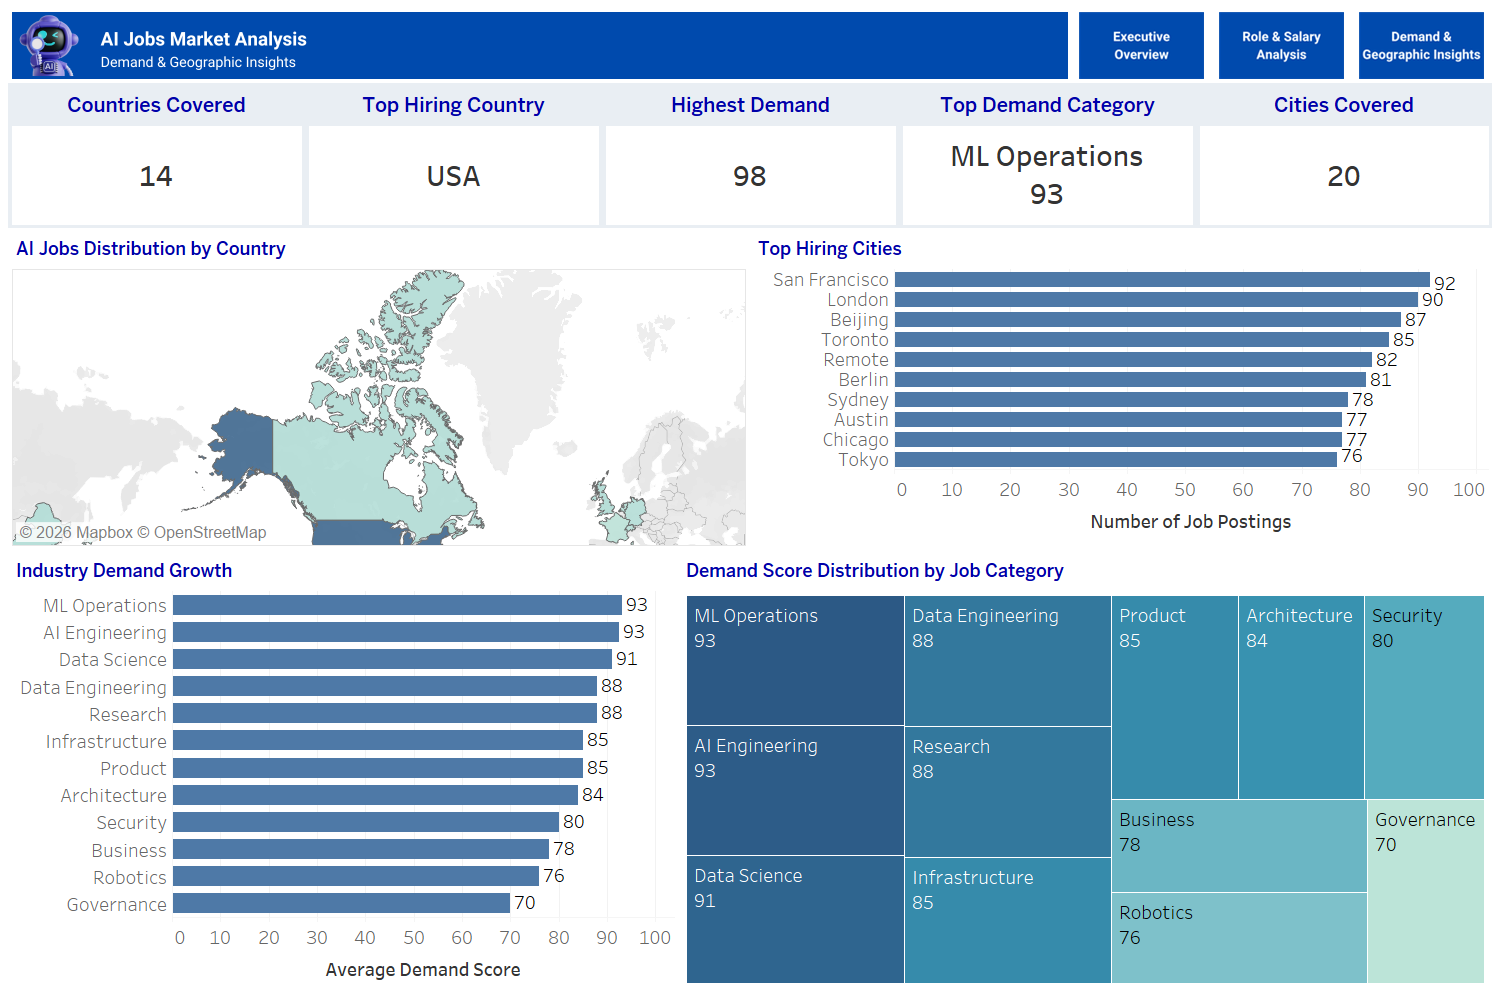

What the dashboard file says about the page in this screenshot:
{"tool":"tableau","page":{"name":"Dashboard - Demand & Geographic Insights","canvas":[1500,1000],"ordinal":0},"visuals":[{"type":"image","param":"Image/Header (2).png","box":[8,8,1064,75]},{"type":"dashboard-object","box":[1072,8,140,75]},{"type":"dashboard-object","box":[1212,8,140,75]},{"type":"dashboard-object","box":[1352,8,140,75]},{"type":"worksheet","title":"KPI - Countries Covered","mark":"Automatic","box":[8,83,297,145]},{"type":"worksheet","title":"KPI - Top Hiring Country","mark":"Text","box":[305,83,297,145]},{"type":"worksheet","title":"KPI - Highest Demand Score","mark":"Automatic","box":[602,83,297,145]},{"type":"worksheet","title":"KPI - Top Demand Category","mark":"Text","box":[899,83,297,145]},{"type":"worksheet","title":"KPI - Cities Covered","mark":"Automatic","box":[1196,83,296,145]},{"type":"worksheet","title":"Geo - AI Jobs Map","mark":"Multipolygon","box":[8,228,742,322]},{"type":"worksheet","title":"Geo - Top Hiring Cities","mark":"Automatic","rows":["city"],"cols":["job_id"],"box":[750,228,742,322]},{"type":"worksheet","title":"Demand - Job Category","mark":"Automatic","rows":["job_category"],"cols":["demand_score"],"box":[8,550,670,442]},{"type":"worksheet","title":"Demand - Job Category Hitmap","mark":"Square","box":[678,550,814,442]}]}

Visuals, with their boxes in screenshot pixels (x1, y1, x2, y2), scaled from the page's 1500x1000 canvas onto the 1500x1000 screenshot:
image: region(8, 8, 1072, 83)
dashboard-object: region(1072, 8, 1212, 83)
dashboard-object: region(1212, 8, 1352, 83)
dashboard-object: region(1352, 8, 1492, 83)
"KPI - Countries Covered" worksheet: region(8, 83, 305, 228)
"KPI - Top Hiring Country" worksheet (Text marks): region(305, 83, 602, 228)
"KPI - Highest Demand Score" worksheet: region(602, 83, 899, 228)
"KPI - Top Demand Category" worksheet (Text marks): region(899, 83, 1196, 228)
"KPI - Cities Covered" worksheet: region(1196, 83, 1492, 228)
"Geo - AI Jobs Map" worksheet (Multipolygon marks): region(8, 228, 750, 550)
"Geo - Top Hiring Cities" worksheet: region(750, 228, 1492, 550)
"Demand - Job Category" worksheet: region(8, 550, 678, 992)
"Demand - Job Category Hitmap" worksheet (Square marks): region(678, 550, 1492, 992)
